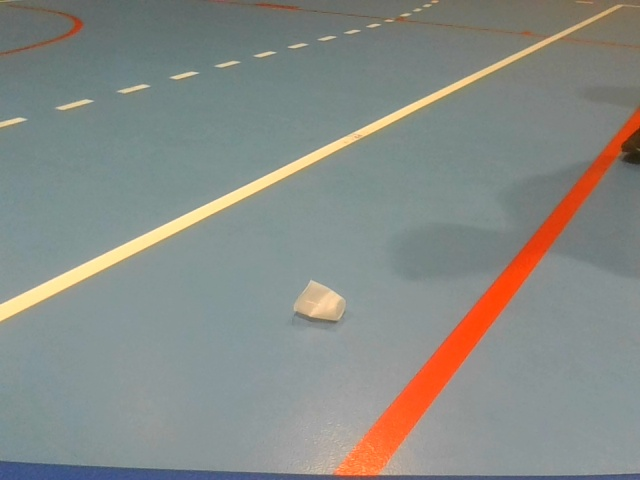plasticcup: (291, 279, 346, 323)
